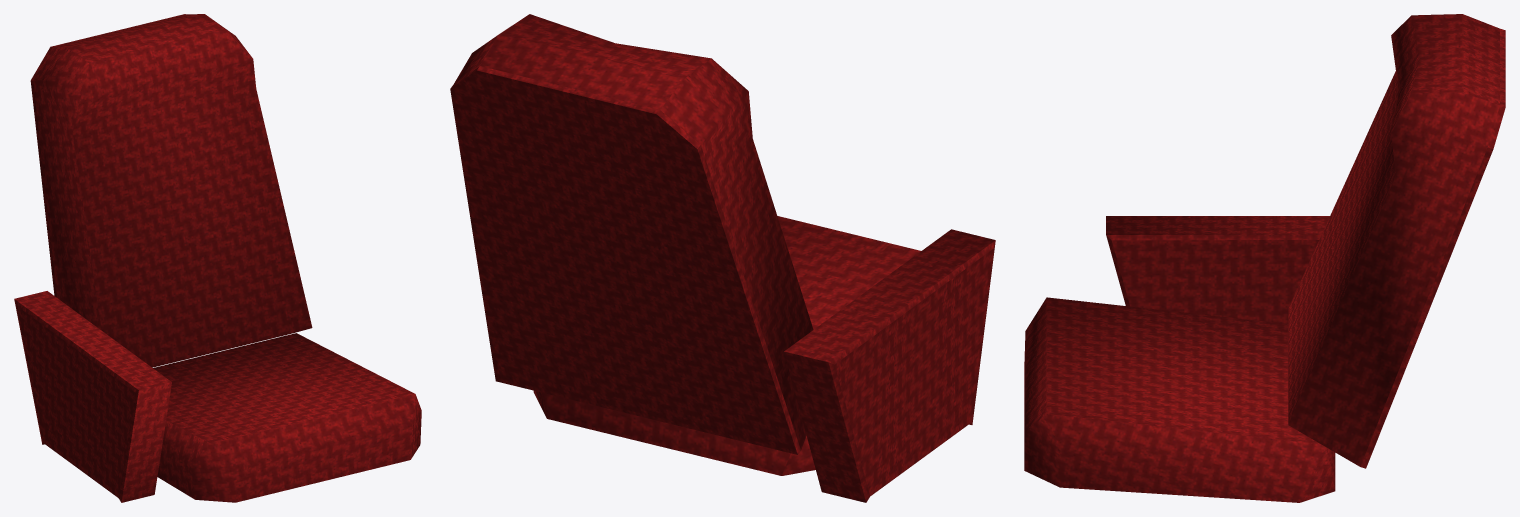
File: Cinemachair.obj
3 views of the same model, side by side, from view 1: azimuth 30°, elevation 25°; view 2: azimuth 150°, elevation 25°; view 3: azimuth 270°, elevation 25° (orthographic). The views are drawn at different scales.
Parts seen in each view (by area): view 1: Chair.001; view 2: Chair.001; view 3: Chair.001.
Part boxes in pixels (left/top/right/bottom): Chair.001: left=14, top=14, right=421, bottom=502; Chair.001: left=450, top=14, right=995, bottom=502; Chair.001: left=1024, top=14, right=1505, bottom=502.
Bounding box in the file's own units: 0.6994 × 0.8492 × 0.9386.
